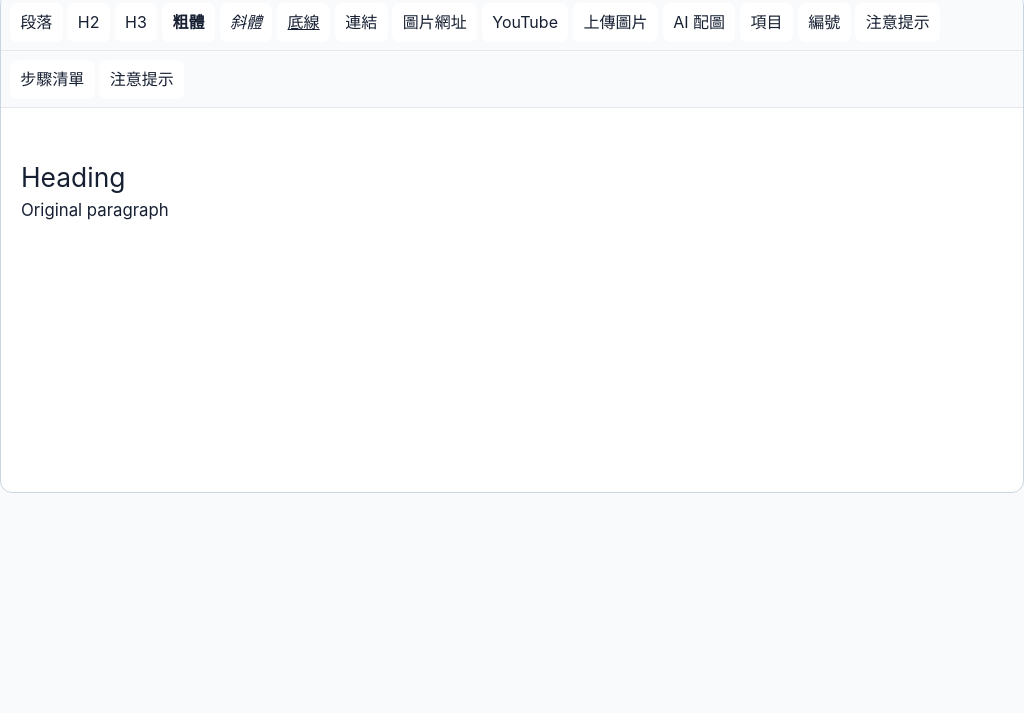
it: AI image editor › requires reanalysis when recovered planned content differs
Click the button "AI 配圖": (699, 22) 663,3 -> 735,42
(page scrolled)
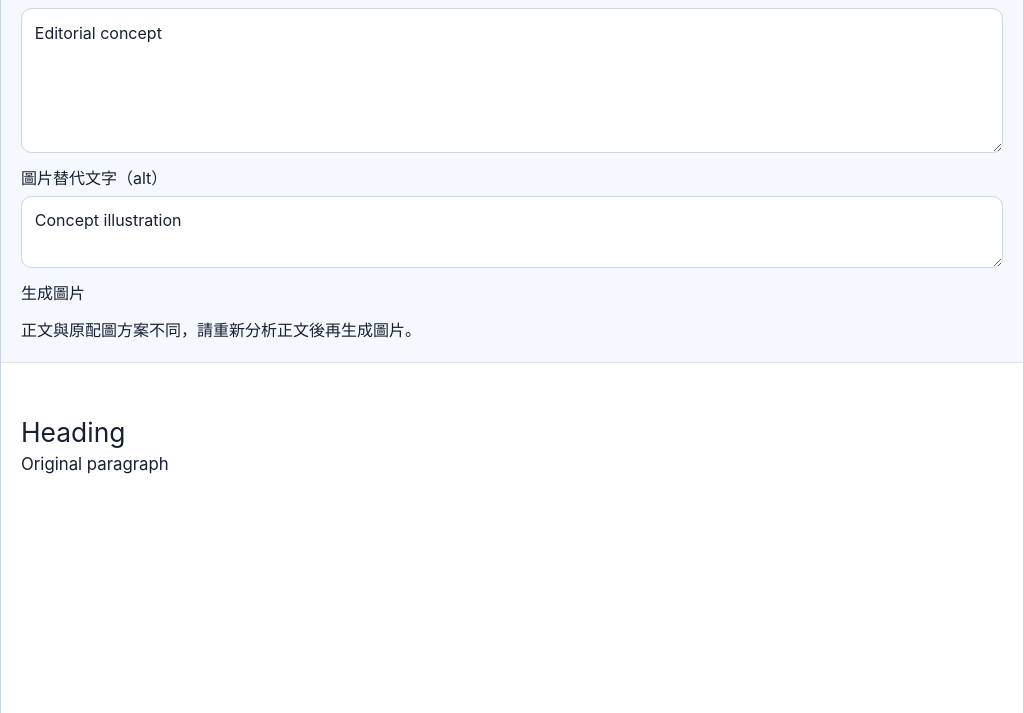
expect the button "生成圖片" is disabled: met, box 21,281 -> 85,305
expect the text "正文與原配圖方案不同，請重新分析正文後再生成圖片。" is shown: met, box 21,320 -> 421,340
